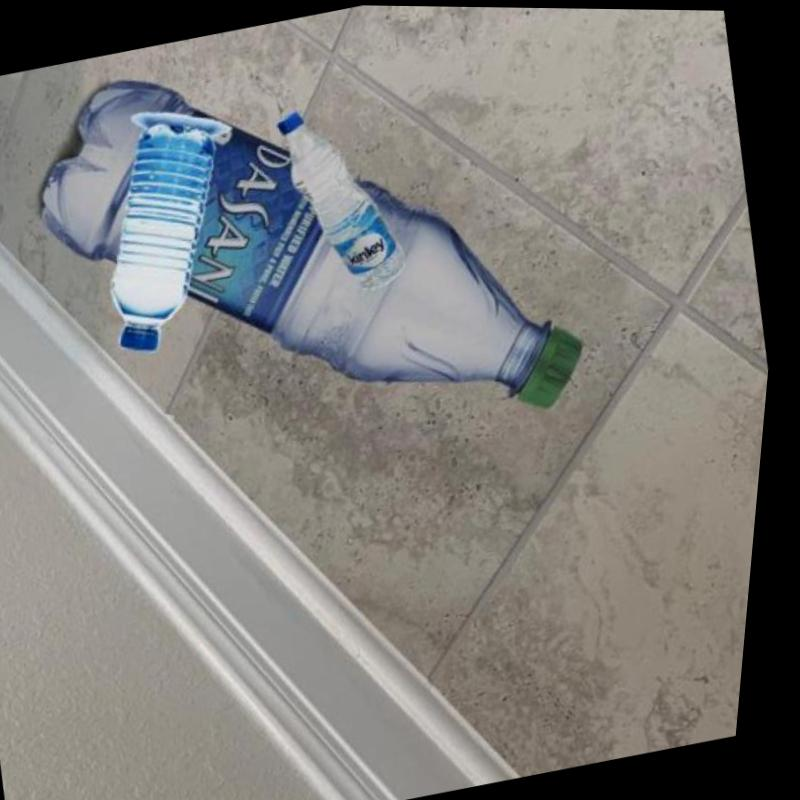botella: (0, 0, 629, 508), (73, 113, 260, 360), (261, 93, 424, 302)
